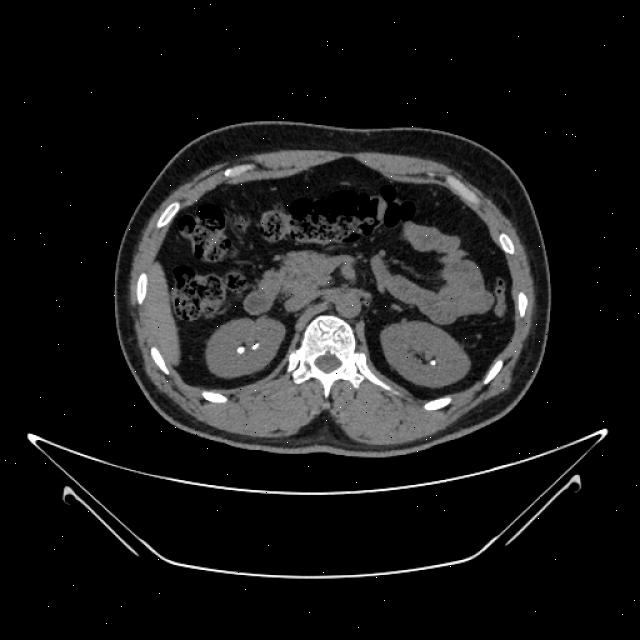kidneystone: (236, 346, 244, 353), (251, 342, 259, 349), (430, 358, 436, 366)
